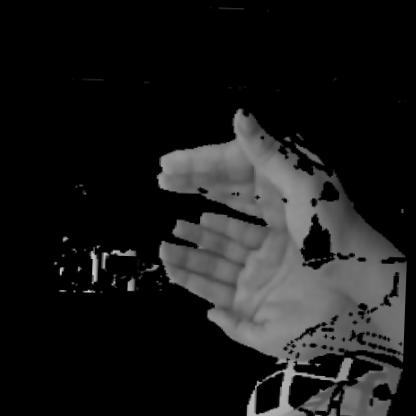dua: (130, 82, 410, 393)
